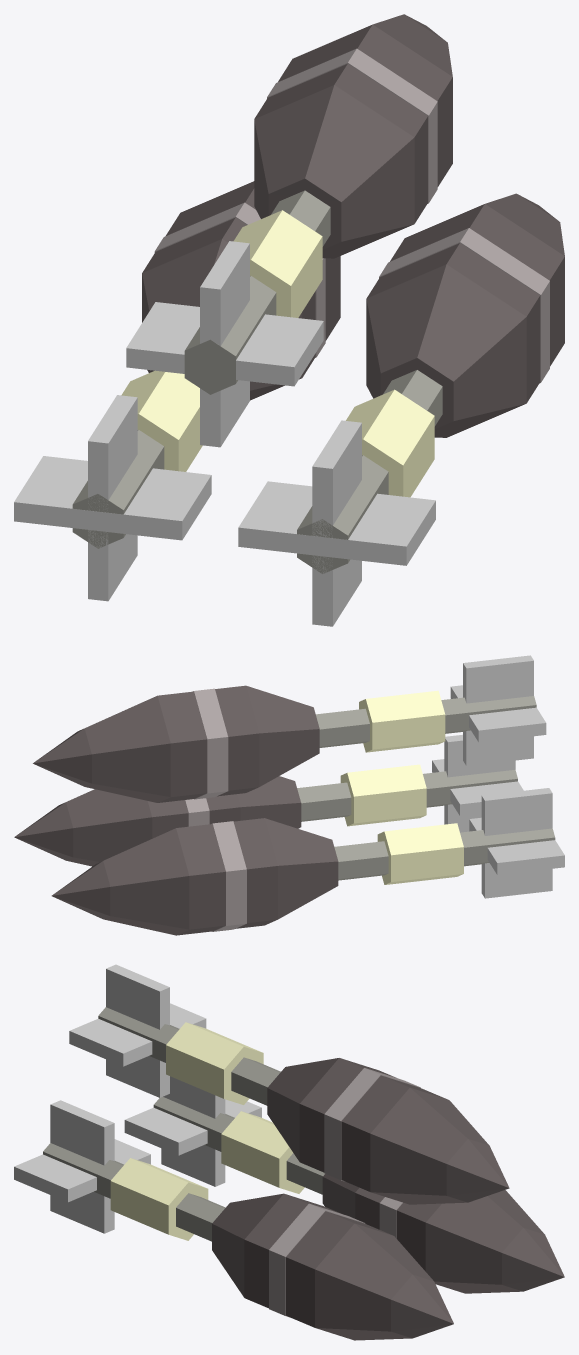
Rendered from ce_ammo_mortar_deadlife_b.obj.
The picture shows the model from 3 angles, top to bottom: view 1: azimuth 30°, elevation 25°; view 2: azimuth 150°, elevation 25°; view 3: azimuth 270°, elevation 25°; orthographic projection. The views are drawn at different scales.
Visible parts, largest first — view 1: ce_ammo_mortar_deadlife_b_12, ce_ammo_mortar_deadlife_b_22, ce_ammo_mortar_deadlife_b_18, ce_ammo_mortar_deadlife_b_8, ce_ammo_mortar_deadlife_b_28, ce_ammo_mortar_deadlife_b_19, ce_ammo_mortar_deadlife_b_9, ce_ammo_mortar_deadlife_b_29, ce_ammo_mortar_deadlife_b_21, ce_ammo_mortar_deadlife_b_11, ce_ammo_mortar_deadlife_b_20, ce_ammo_mortar_deadlife_b_25 (+14 smaller); view 2: ce_ammo_mortar_deadlife_b_6, ce_ammo_mortar_deadlife_b_26, ce_ammo_mortar_deadlife_b_16, ce_ammo_mortar_deadlife_b_9, ce_ammo_mortar_deadlife_b_29, ce_ammo_mortar_deadlife_b_22, ce_ammo_mortar_deadlife_b_2, ce_ammo_mortar_deadlife_b_21, ce_ammo_mortar_deadlife_b_1, ce_ammo_mortar_deadlife_b_11, ce_ammo_mortar_deadlife_b_25, ce_ammo_mortar_deadlife_b_5 (+18 smaller); view 3: ce_ammo_mortar_deadlife_b_26, ce_ammo_mortar_deadlife_b_16, ce_ammo_mortar_deadlife_b_6, ce_ammo_mortar_deadlife_b_19, ce_ammo_mortar_deadlife_b_29, ce_ammo_mortar_deadlife_b_11, ce_ammo_mortar_deadlife_b_21, ce_ammo_mortar_deadlife_b_1, ce_ammo_mortar_deadlife_b_25, ce_ammo_mortar_deadlife_b_15, ce_ammo_mortar_deadlife_b_23, ce_ammo_mortar_deadlife_b_13 (+18 smaller).
Part boxes in pixels (box(x1,y1,x2,y2)): ce_ammo_mortar_deadlife_b_12: box(366, 264, 526, 437); ce_ammo_mortar_deadlife_b_22: box(254, 85, 414, 258); ce_ammo_mortar_deadlife_b_18: box(238, 481, 435, 565); ce_ammo_mortar_deadlife_b_8: box(14, 456, 211, 540); ce_ammo_mortar_deadlife_b_28: box(126, 302, 323, 386); ce_ammo_mortar_deadlife_b_19: box(312, 420, 361, 626); ce_ammo_mortar_deadlife_b_9: box(88, 395, 137, 601); ce_ammo_mortar_deadlife_b_29: box(200, 241, 249, 447); ce_ammo_mortar_deadlife_b_21: box(233, 210, 322, 317); ce_ammo_mortar_deadlife_b_11: box(346, 389, 434, 497); ce_ammo_mortar_deadlife_b_20: box(184, 190, 330, 394); ce_ammo_mortar_deadlife_b_25: box(278, 24, 452, 186); ce_ammo_mortar_deadlife_b_6: box(103, 828, 189, 935); ce_ammo_mortar_deadlife_b_26: box(84, 695, 170, 802); ce_ammo_mortar_deadlife_b_16: box(66, 789, 152, 866); ce_ammo_mortar_deadlife_b_9: box(481, 788, 552, 898); ce_ammo_mortar_deadlife_b_29: box(463, 655, 533, 765); ce_ammo_mortar_deadlife_b_22: box(246, 685, 319, 786); ce_ammo_mortar_deadlife_b_2: box(264, 818, 338, 919); ce_ammo_mortar_deadlife_b_21: box(359, 690, 445, 752); ce_ammo_mortar_deadlife_b_1: box(377, 823, 463, 884); ce_ammo_mortar_deadlife_b_11: box(340, 764, 426, 826); ce_ammo_mortar_deadlife_b_25: box(157, 691, 207, 802); ce_ammo_mortar_deadlife_b_5: box(176, 824, 225, 935); ce_ammo_mortar_deadlife_b_26: box(370, 1087, 489, 1204); ce_ammo_mortar_deadlife_b_16: box(315, 1223, 433, 1340); ce_ammo_mortar_deadlife_b_6: box(425, 1190, 544, 1293); ce_ammo_mortar_deadlife_b_19: box(50, 1100, 114, 1233); ce_ammo_mortar_deadlife_b_29: box(106, 964, 169, 1097); ce_ammo_mortar_deadlife_b_11: box(110, 1158, 208, 1240); ce_ammo_mortar_deadlife_b_21: box(166, 1022, 263, 1104); ce_ammo_mortar_deadlife_b_1: box(221, 1111, 304, 1193); ce_ammo_mortar_deadlife_b_25: box(341, 1075, 447, 1191); ce_ammo_mortar_deadlife_b_15: box(286, 1211, 392, 1327); ce_ammo_mortar_deadlife_b_23: box(299, 1058, 396, 1172); ce_ammo_mortar_deadlife_b_13: box(244, 1193, 340, 1308).
Bounding box in the file's own units: 0.8443 × 0.39 × 0.8443.
